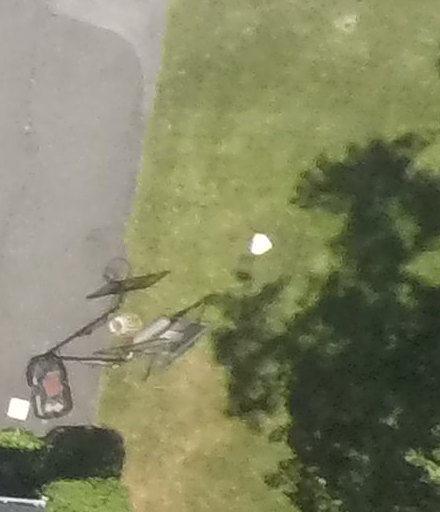basketball: (23, 241, 184, 420)
